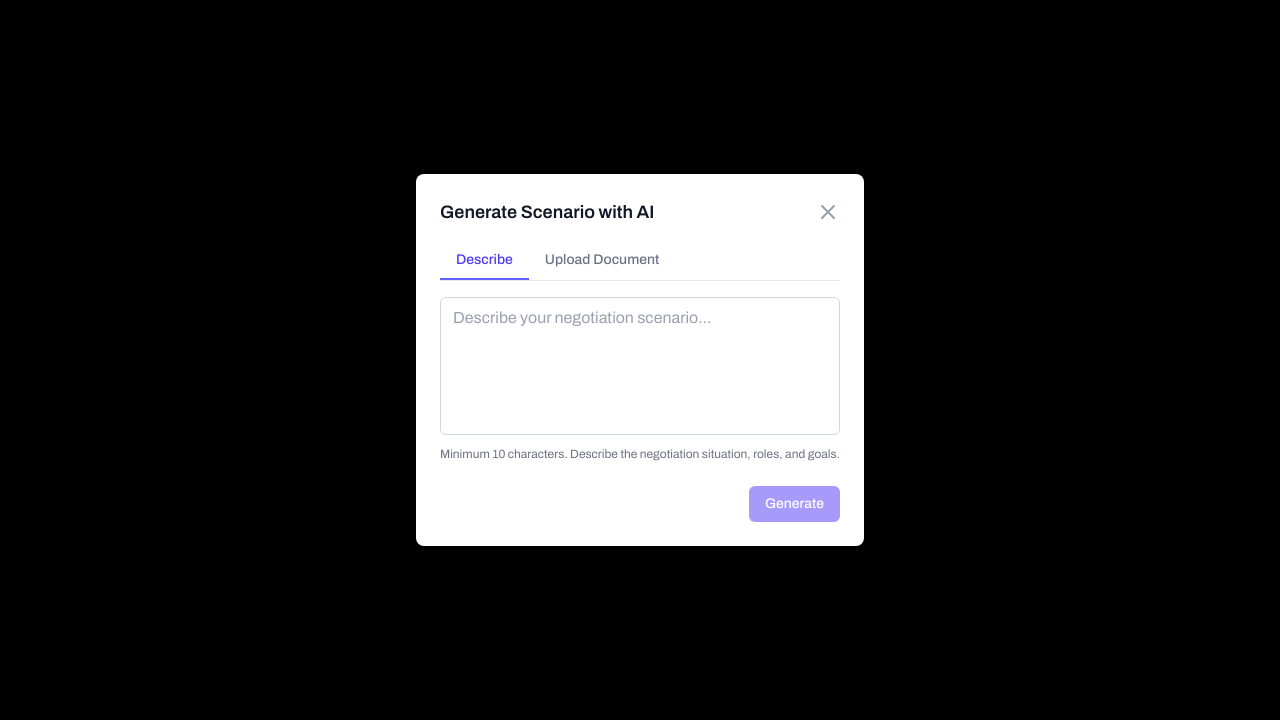
Test case: GenerateScenarioModal › displays generated scenario fields after successful generation
Type "A test scenario description" into the text box with test id "description-input".
click(640, 366); type("A test scenario description")  # box [440,297,840,435]
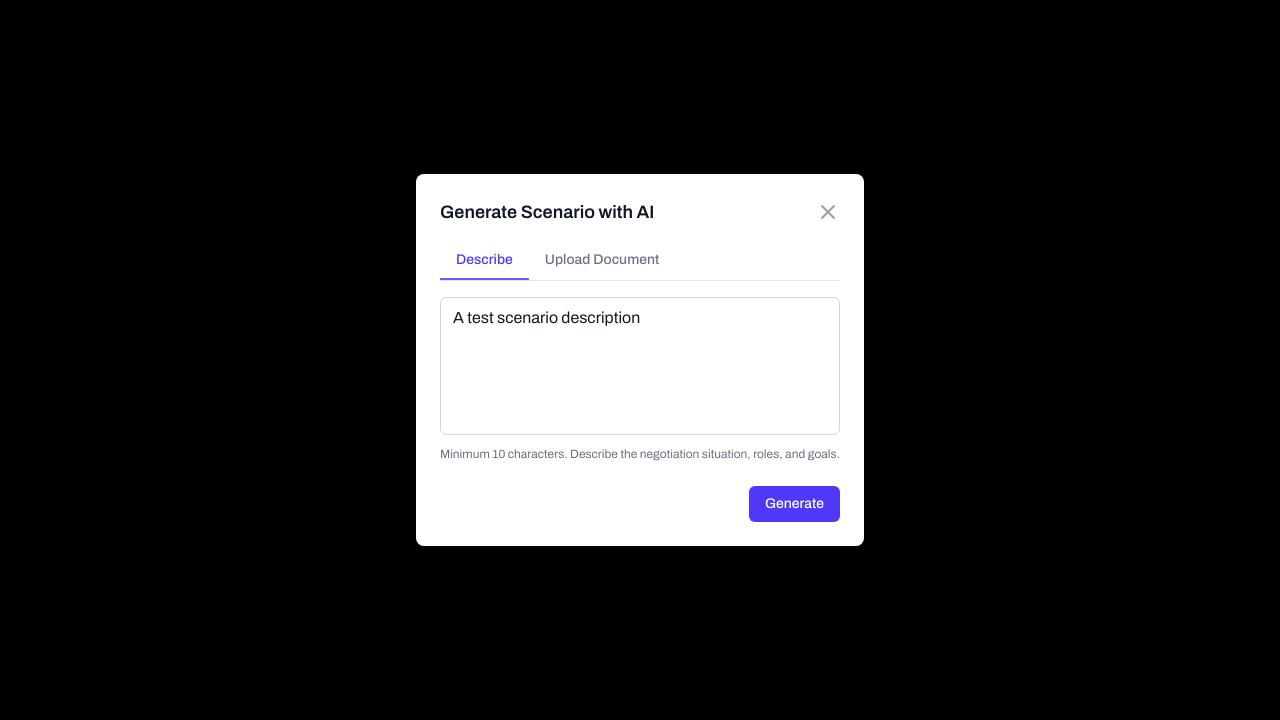
Click the button with test id "generate-button".
click(794, 504)  # box [749,486,840,522]
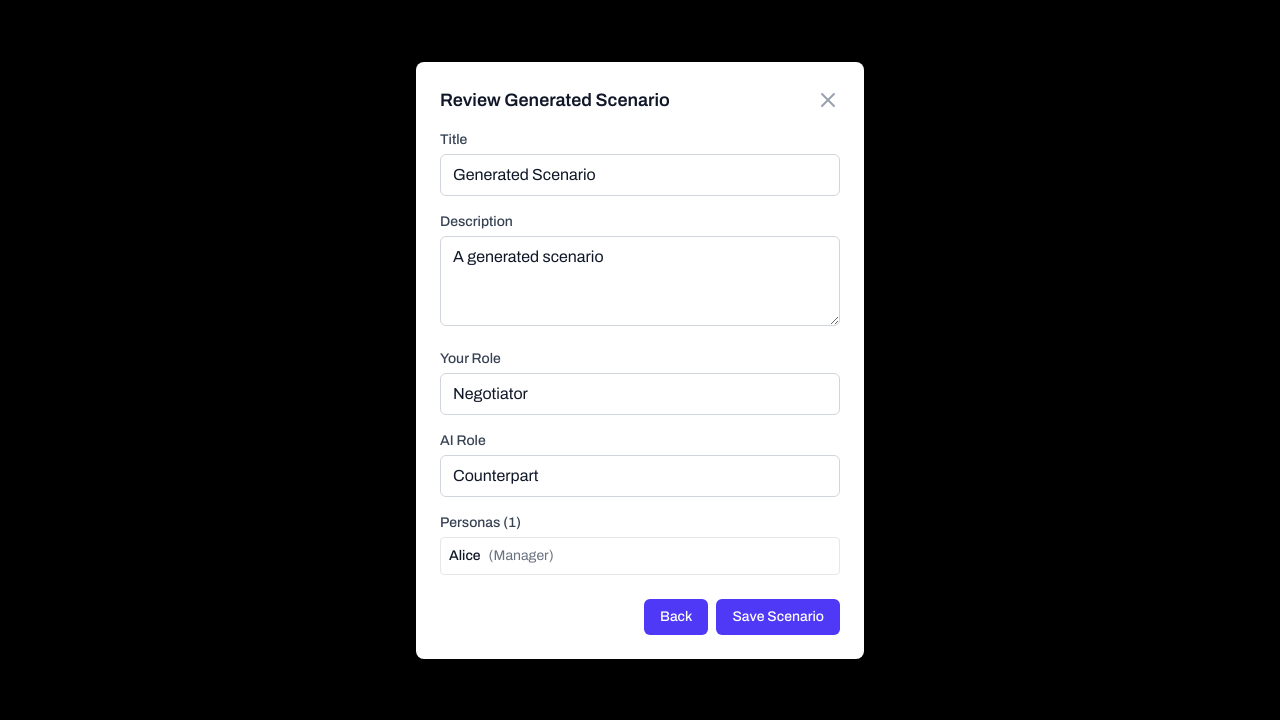
expect the element with test id "scenario-preview" is shown: met, box [440,130,840,574]
expect the field with test id "edit-title" holds "Generated Scenario": met, box [440,154,840,196]
expect the field with test id "edit-user-role" holds "Negotiator": met, box [440,372,840,414]
